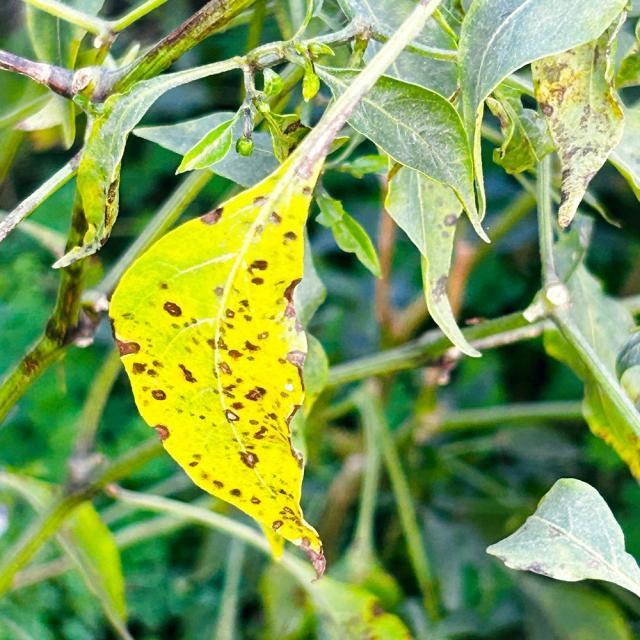Bercak Daun Serkospora: (105, 132, 332, 580)
